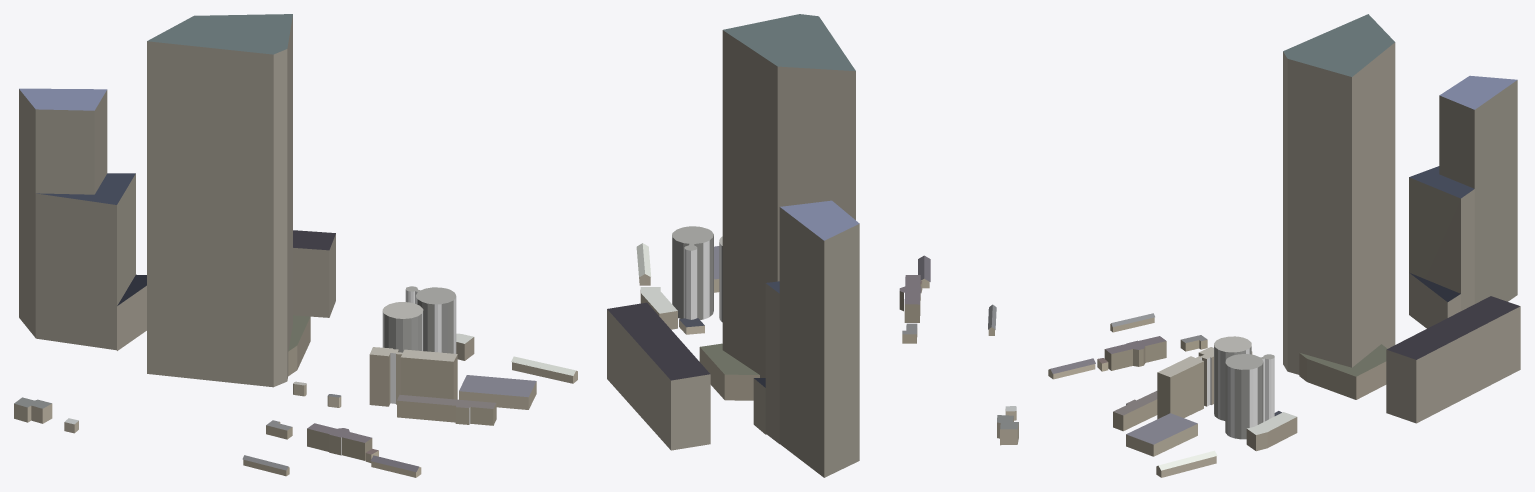
3 renders of one model, left to right at view 1: azimuth 30°, elevation 25°; view 2: azimuth 150°, elevation 25°; view 3: azimuth 270°, elevation 25°, orthographic. The views are drawn at different scales.
Parts seen in each view (by area): view 1: tuile; view 2: tuile; view 3: tuile.
Boxes of the visible parts, x1=… form: tuile: x1=14, y1=14, x2=577, y2=477; tuile: x1=607, y1=14, x2=1018, y2=477; tuile: x1=1048, y1=14, x2=1520, y2=477.
Size of the model in its own units: 267 by 185 by 250.
